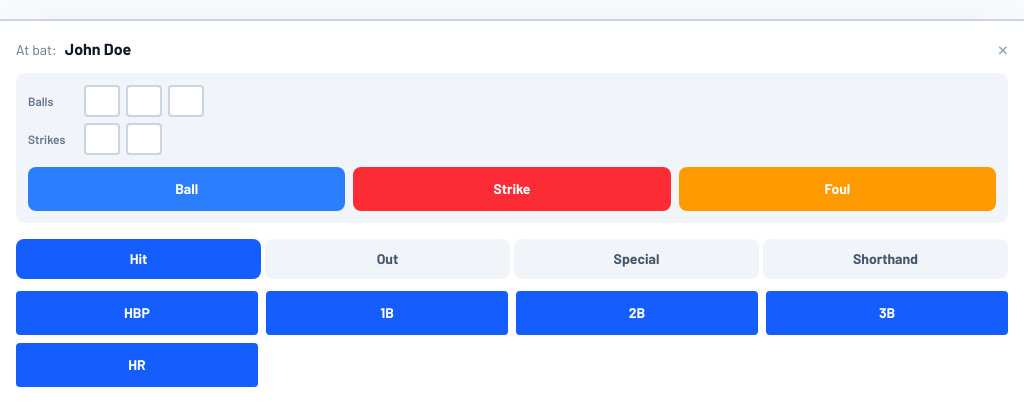
Scenario: PlayEntryPanel › switches to Out tab and shows fielding buttons
Step 1. Click the button "Out" → coordinates (388, 259), box [265,239,510,279]
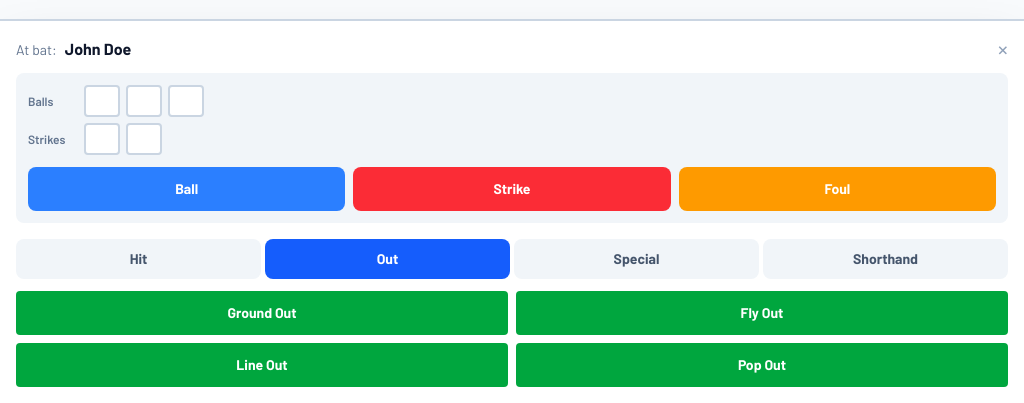
Check: the button "Ground Out" is shown, box [16,291,508,335]
Check: the button "1B" is gone
